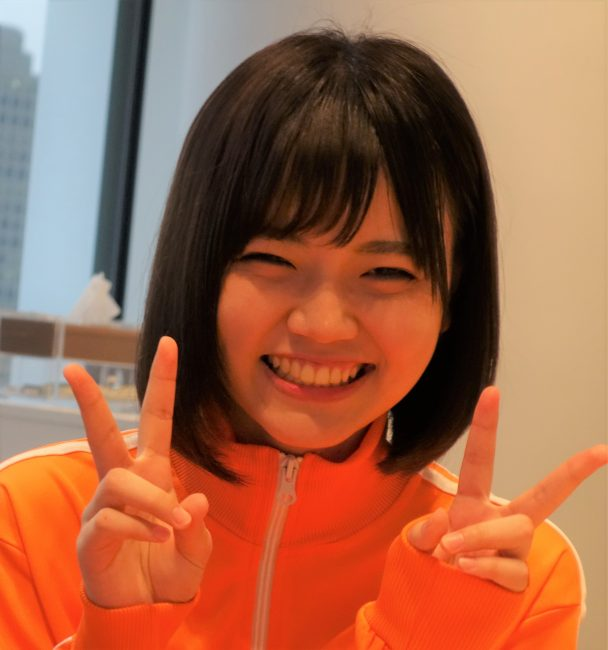face: (213, 124, 453, 450)
hand: (405, 382, 608, 590), (64, 335, 214, 608)
